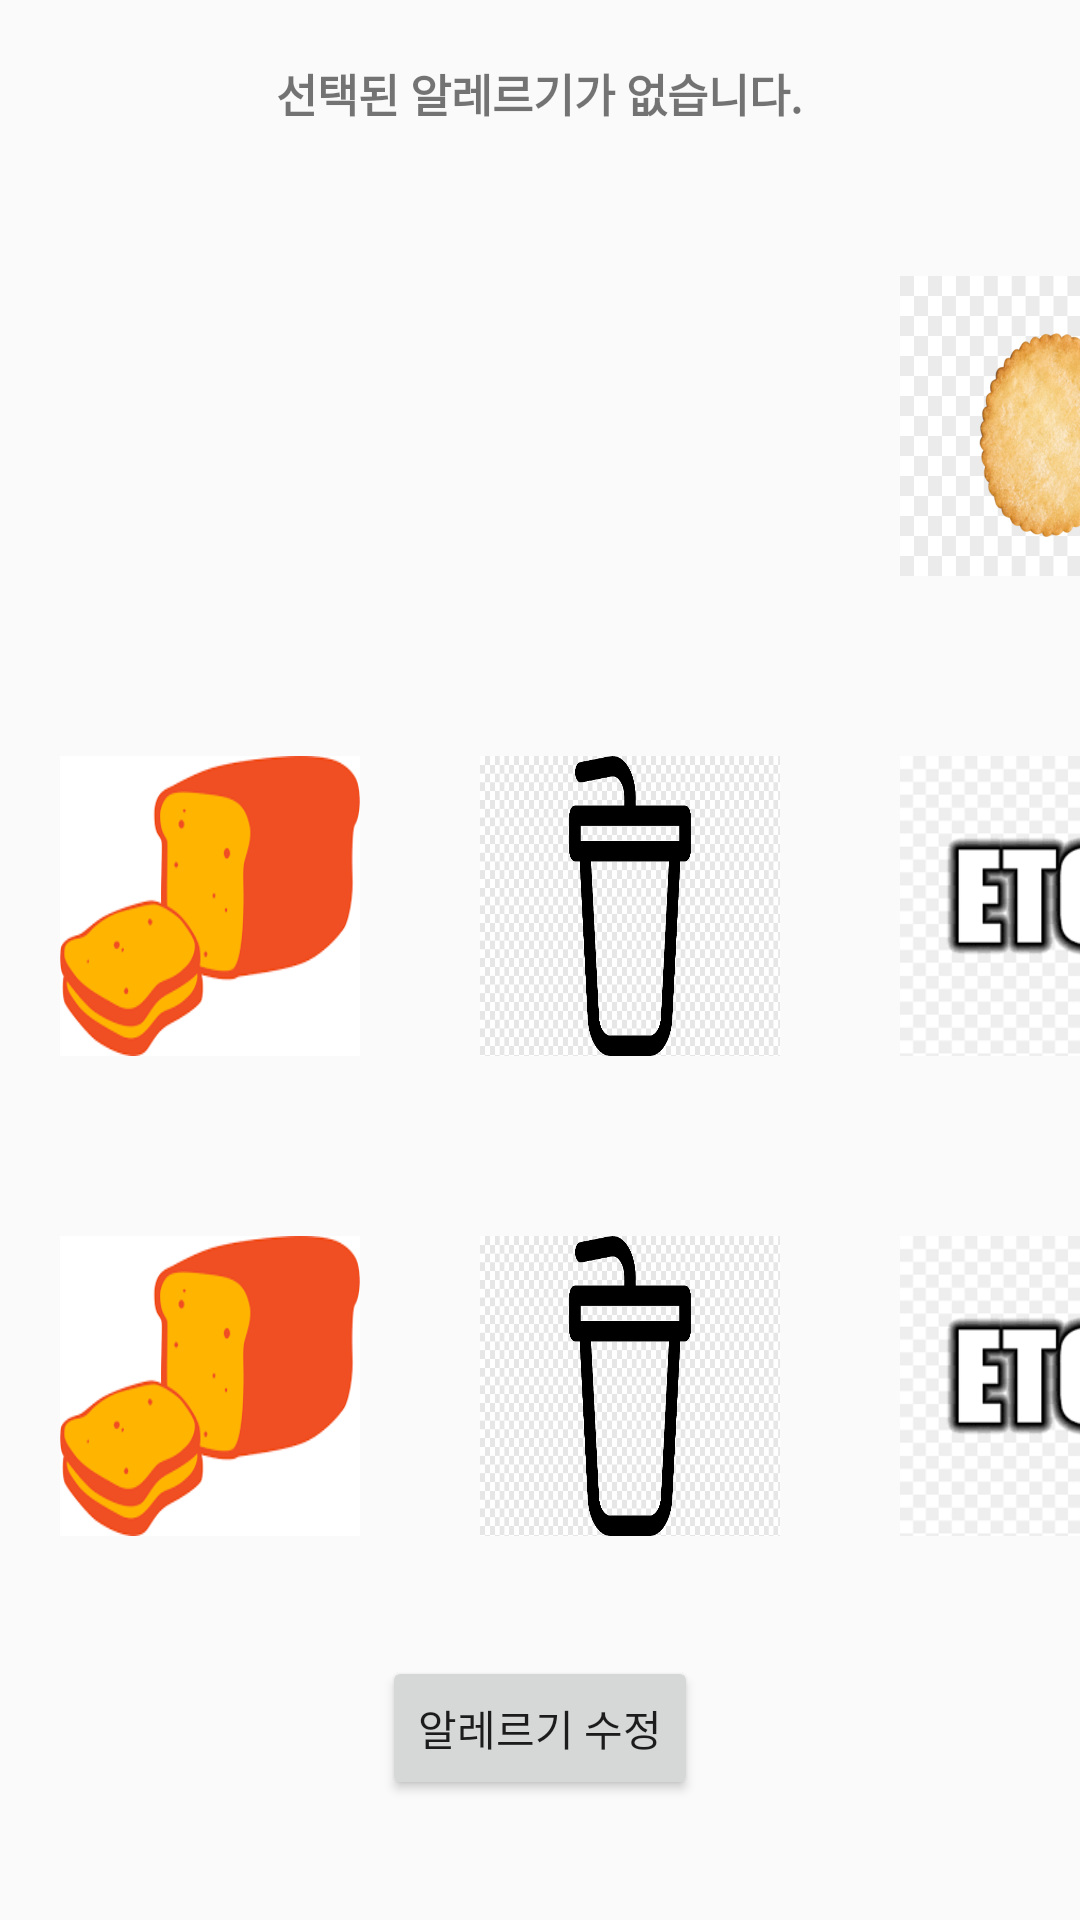

Point at icon controls on the screen. Image size 1080px×1920px, points as (x=x, y=y).
bread: (x=210, y=906), (x=210, y=1386)
drink: (x=630, y=906), (x=630, y=1386)
